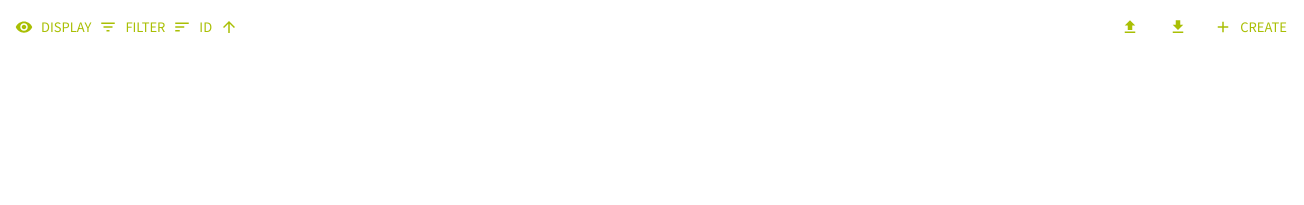
Scenario: WordListTableHead › should open filter menu
Click the button with test id "FilterListIcon" at (133, 27), box [96,12,170,43]
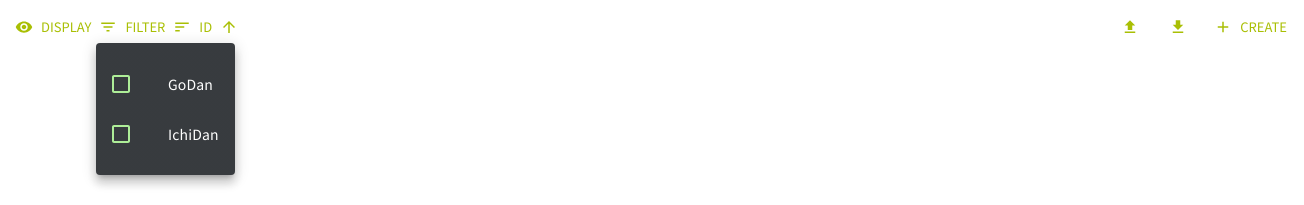
Result: the text "GoDan" is shown at [168,74,219,94]
